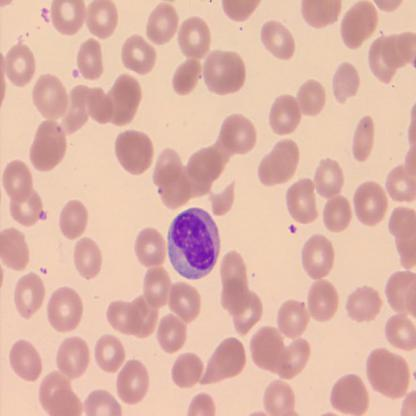Metamyelocyte: (164, 202, 222, 282)
